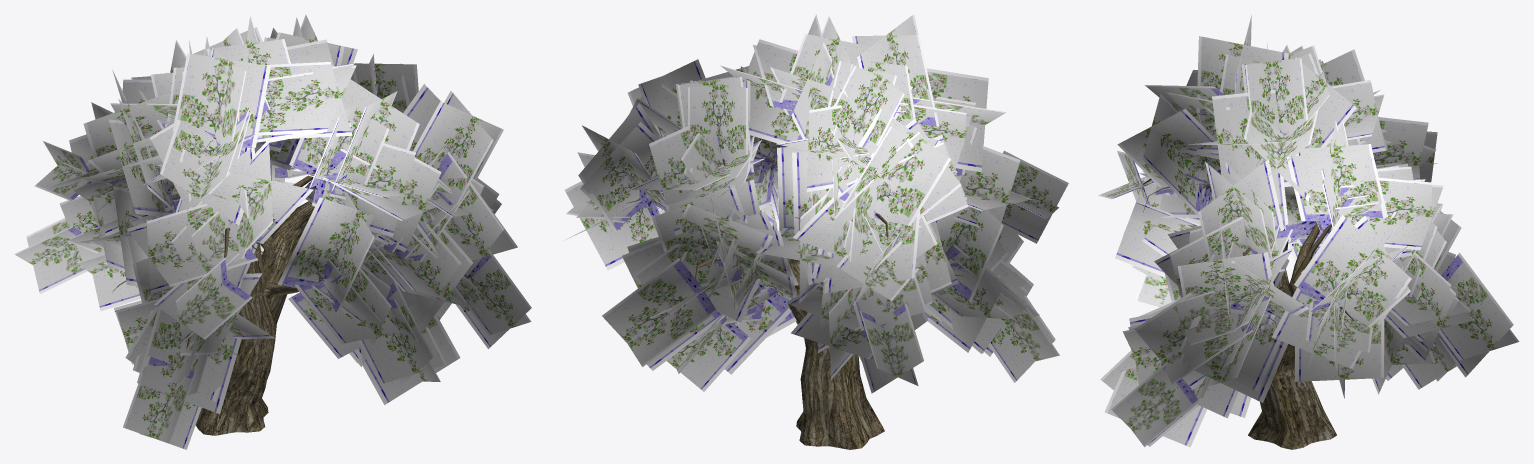
Rendered from Apple tree 2.fbx.
3 renders of one model, left to right at view 1: azimuth 30°, elevation 25°; view 2: azimuth 150°, elevation 25°; view 3: azimuth 270°, elevation 25°, orthographic. The views are drawn at different scales.
Parts seen in each view (by area): view 1: tree.002, tree.001; view 2: tree.002, tree.001; view 3: tree.002, tree.001.
Part boxes in pixels (x1,y1,x2,y2): tree.002: (14, 14, 531, 449); tree.001: (97, 137, 473, 435); tree.002: (562, 14, 1068, 393); tree.001: (597, 140, 966, 449); tree.002: (1098, 14, 1519, 447); tree.001: (1143, 131, 1355, 449).
Bounding box in the file's own units: 3575 × 3252 × 3210.
Materials: 2 (2 with a texture image).
